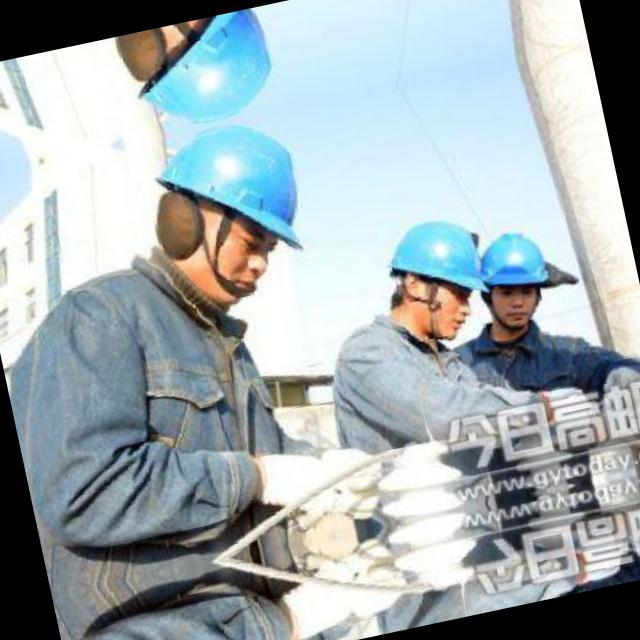helmet: (126, 106, 342, 324), (103, 1, 303, 140), (374, 202, 498, 351), (462, 214, 564, 338)
